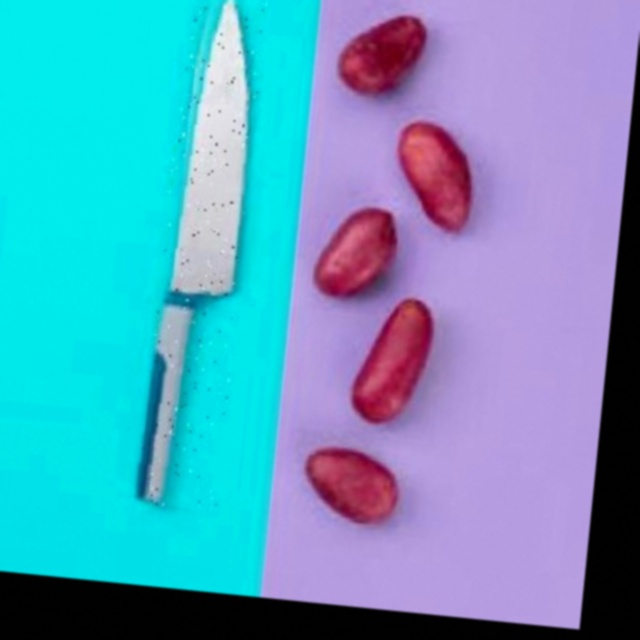Sharp-Object: (138, 0, 268, 511)
